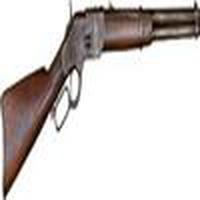gun: (2, 6, 198, 200)
